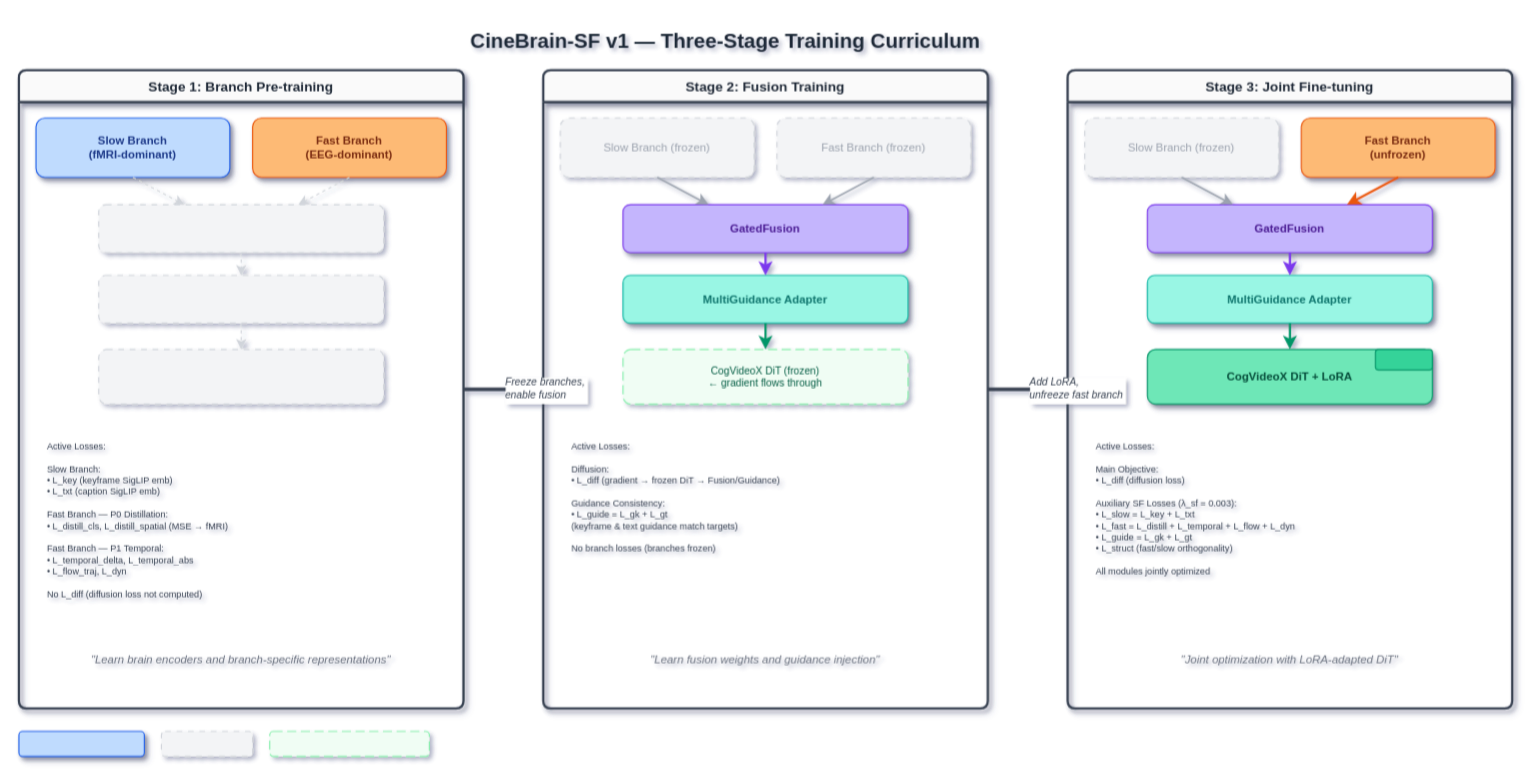
The diagram is 1531 pixels wide and 775 high, and some of its shapes have lost their labels. Each missing label, with the centre of its shape:
CogVideoX DiT (frozen): point 240,376
Frozen: point 206,743
GatedFusion (frozen): point 240,228
Gradient pass-through: point 348,743
LoRA: point 1403,359
MultiGuidance (frozen): point 240,298
Trainable (active): point 82,745
